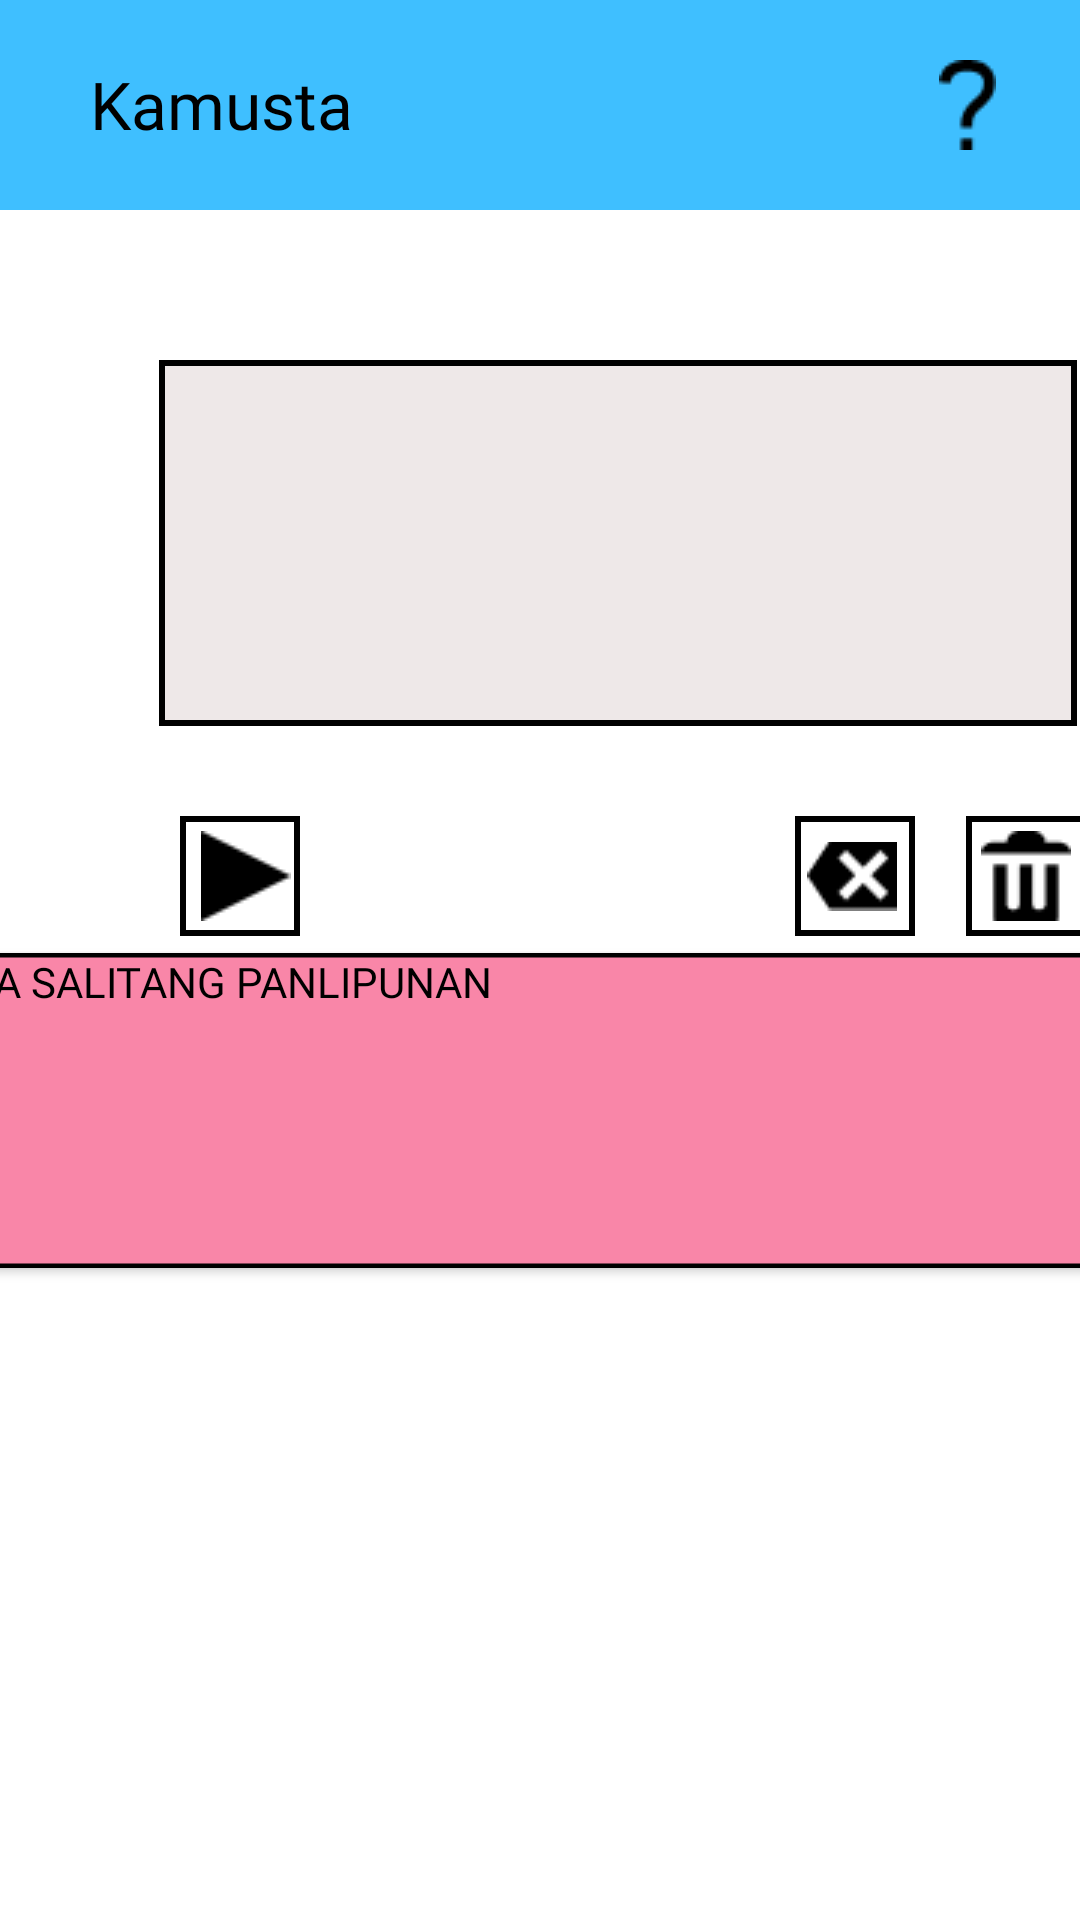

Icons on this 1080w x 1920h Android screen, each with its box as (x1, y1, x2, y2):
delete: (807, 842, 897, 911)
play: (201, 831, 291, 921)
question mark: (939, 60, 996, 150)
trash: (981, 831, 1071, 921)
